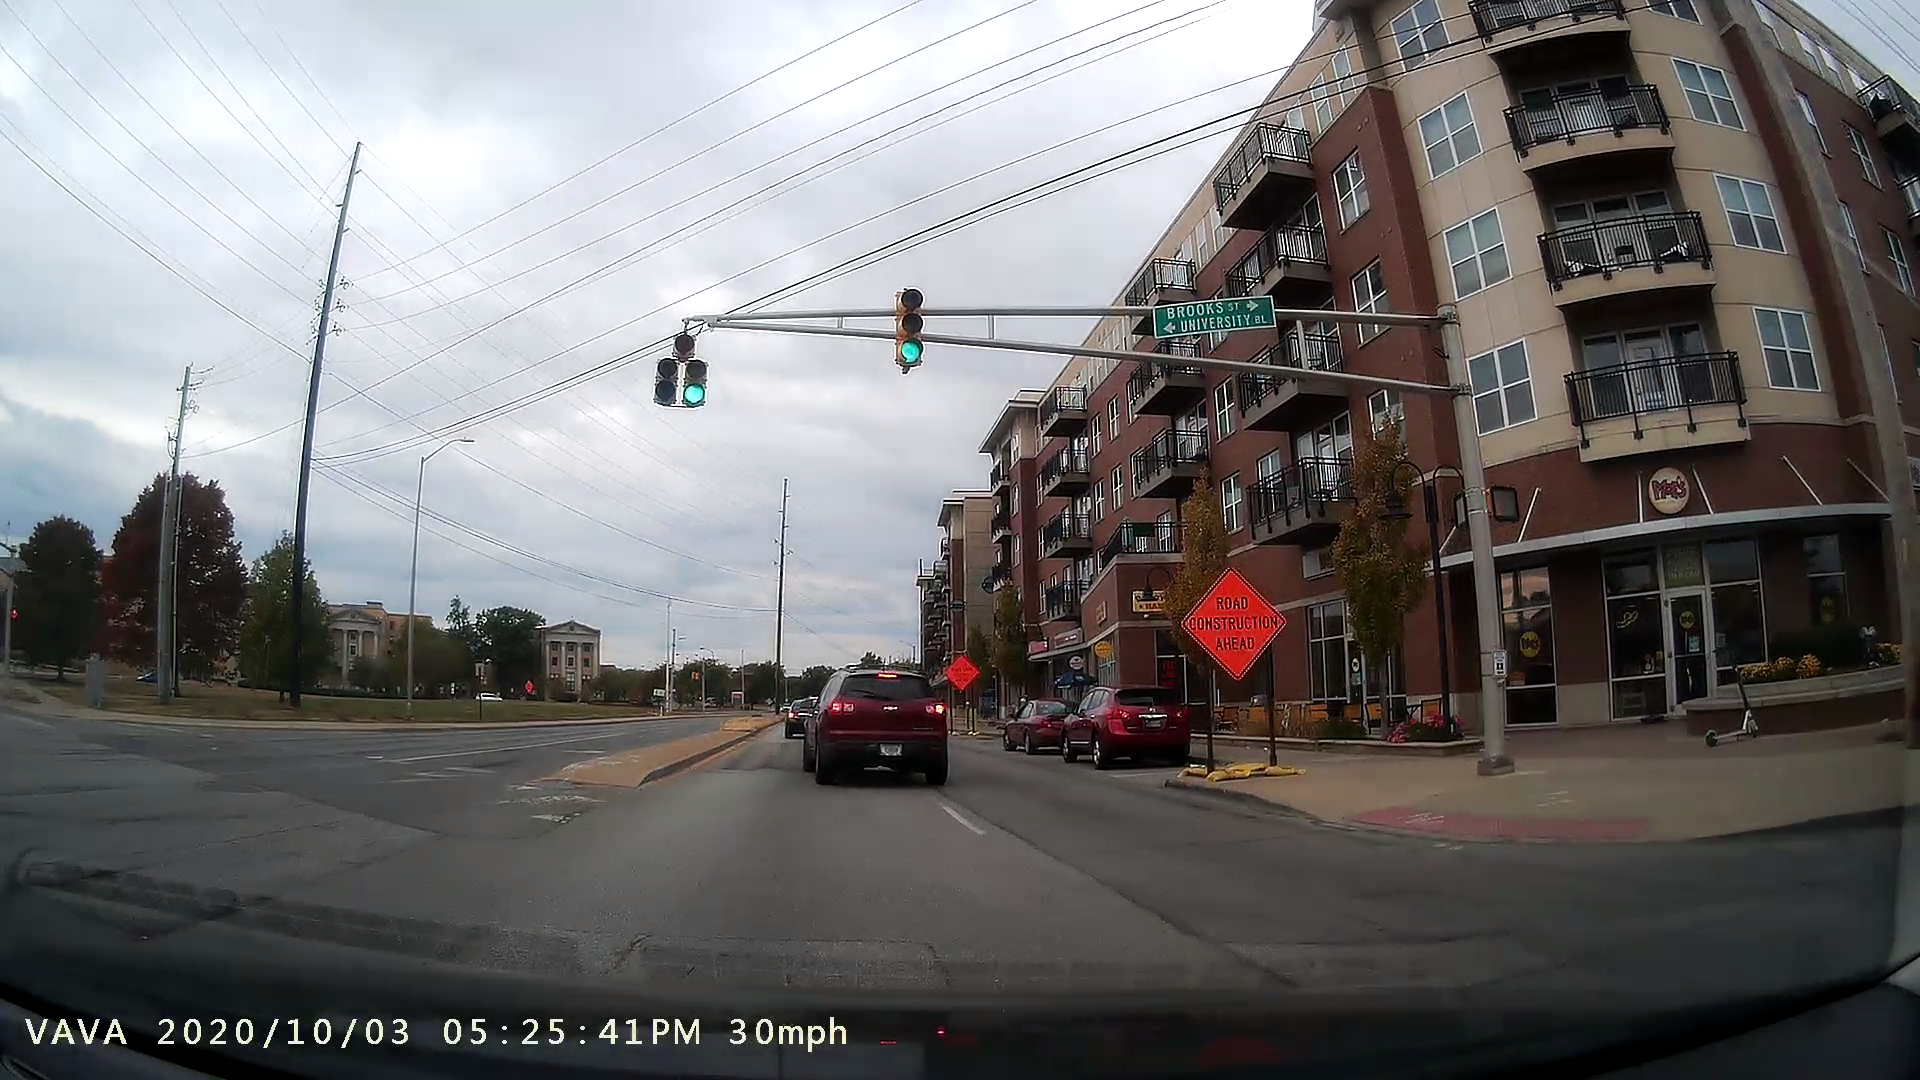ttcs_road_const_ahead: (1168, 545, 1299, 781)
